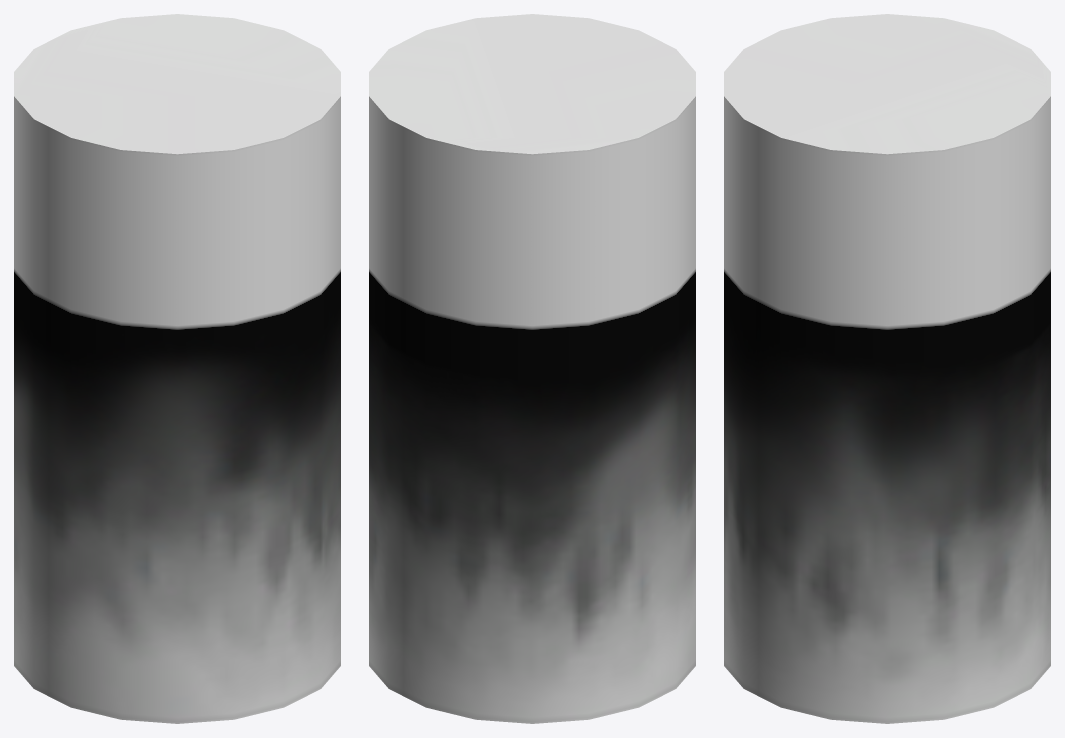
File: yuanzhu_pian_1.FBX
3 views of the same model, side by side, from view 1: azimuth 30°, elevation 25°; view 2: azimuth 150°, elevation 25°; view 3: azimuth 270°, elevation 25° (orthographic).
Visible parts, largest first — view 1: Cylinder001; view 2: Cylinder001; view 3: Cylinder001.
Boxes of the visible parts, <box> form: Cylinder001: <box>14,14,340,723</box>; Cylinder001: <box>369,14,695,723</box>; Cylinder001: <box>724,14,1050,723</box>.
Bounding box in the file's own units: 151 × 286 × 149.
